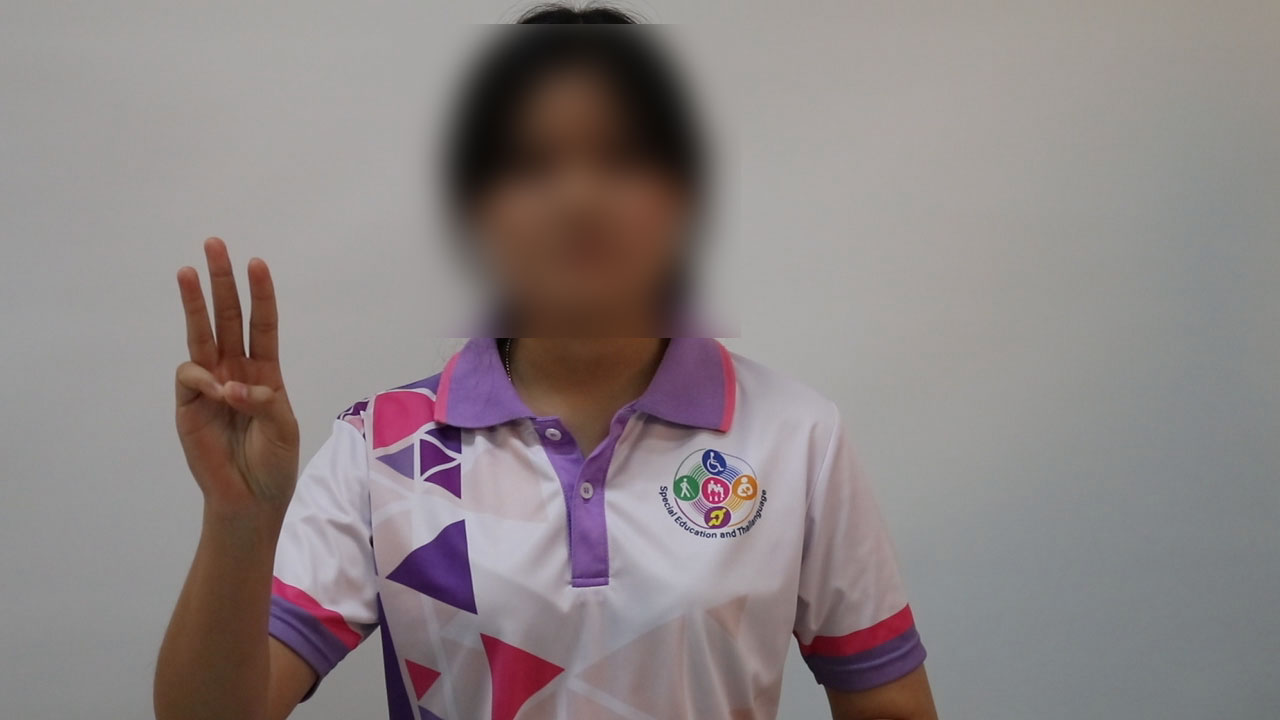wor: (164, 227, 309, 527)
